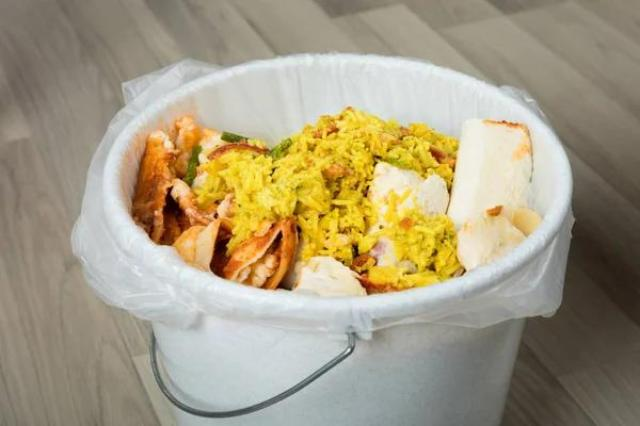Garbage: (130, 107, 552, 303)
